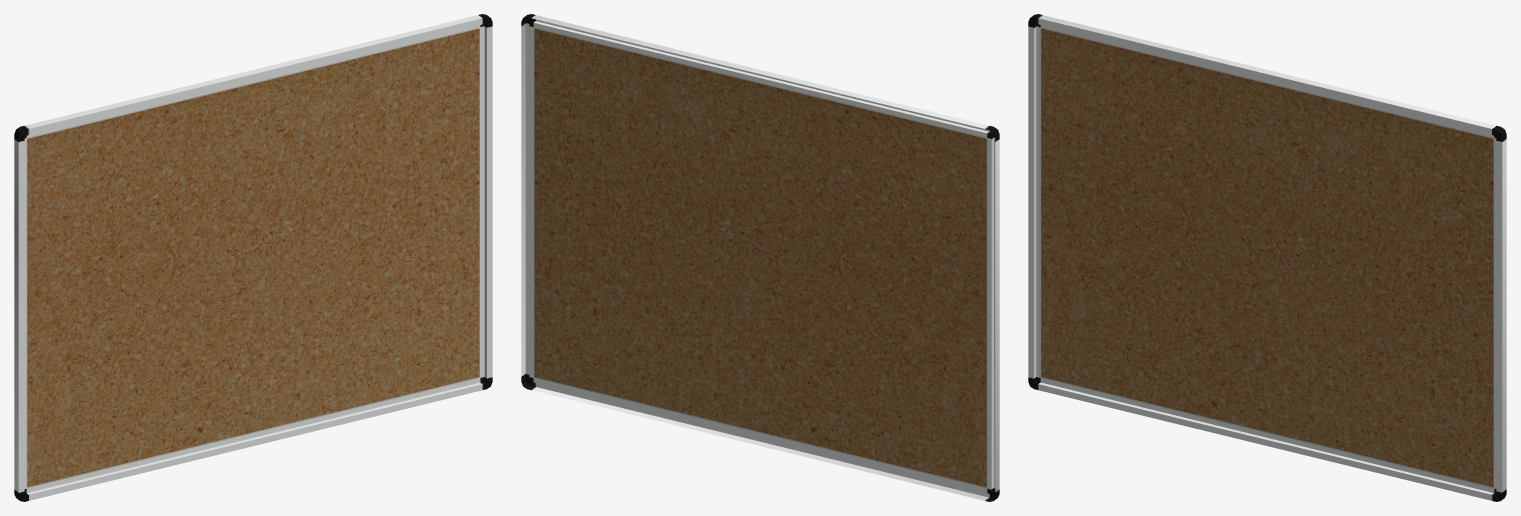
Rendered from Board.fbx.
3 views of the same model, side by side, from view 1: azimuth 30°, elevation 25°; view 2: azimuth 150°, elevation 25°; view 3: azimuth 330°, elevation 25° (orthographic).
Visible parts, largest first — view 1: Board; view 2: Board; view 3: Board.
Boxes of the visible parts, x1=… form: Board: x1=14, y1=14, x2=492, y2=501; Board: x1=521, y1=14, x2=999, y2=501; Board: x1=1028, y1=14, x2=1506, y2=501.
Bounding box in the file's own units: 122 × 91.44 × 2.
